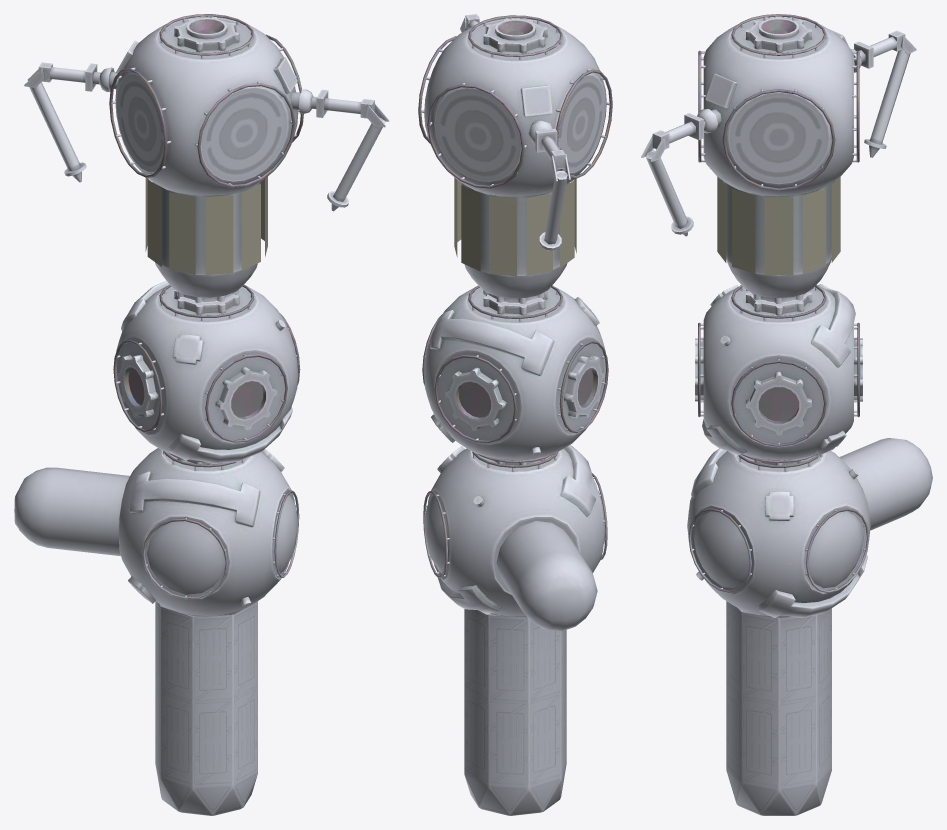
The model's file is modul_test.glb.
3 views of the same model, side by side, from view 1: azimuth 30°, elevation 25°; view 2: azimuth 150°, elevation 25°; view 3: azimuth 270°, elevation 25° (orthographic).
Visible parts, largest first — view 1: LP_Block; view 2: LP_Block; view 3: LP_Block.
Part boxes in pixels (x1=…): LP_Block: x1=14, y1=14, x2=389, y2=815; LP_Block: x1=418, y1=14, x2=612, y2=815; LP_Block: x1=641, y1=14, x2=932, y2=815.
Size of the model in its own units: 3.66 by 10.68 by 3.66.
Materials: 1 (1 with a texture image).
